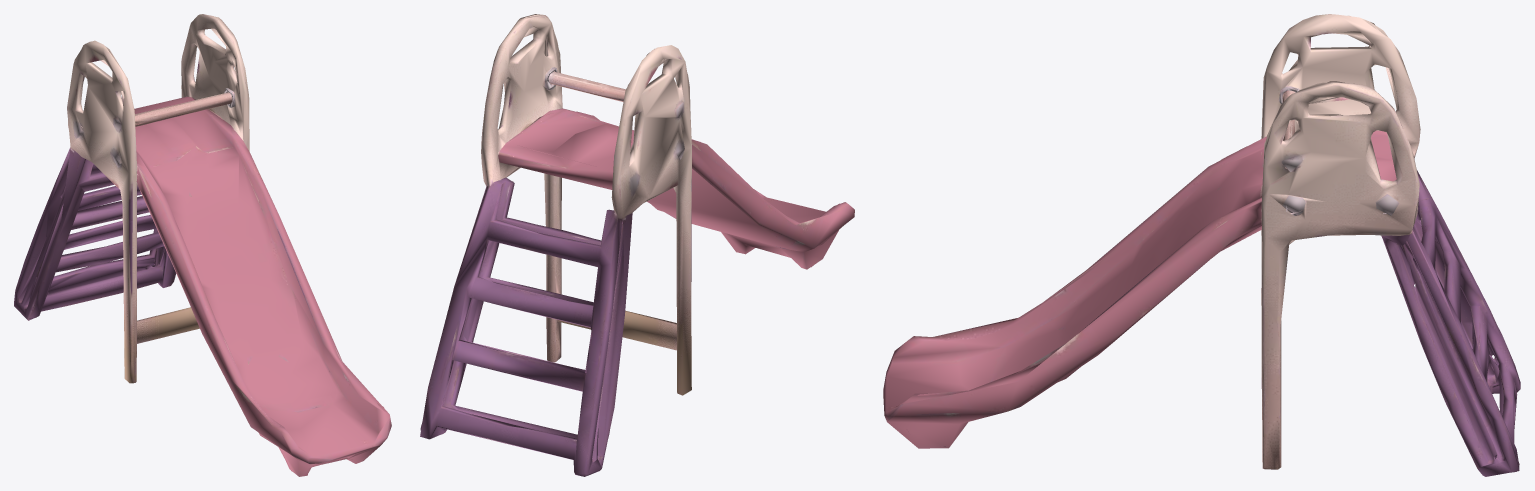
Rendered from pink-slide.glb.
3 views of the same model, side by side, from view 1: azimuth 30°, elevation 25°; view 2: azimuth 150°, elevation 25°; view 3: azimuth 270°, elevation 25° (orthographic). The views are drawn at different scales.
Visible parts, largest first — view 1: world; view 2: world; view 3: world.
Boxes of the visible parts, x1,y1,x2,y2 form: world: (14, 14, 391, 476); world: (420, 14, 854, 476); world: (883, 14, 1520, 476).
Size of the model in its own units: 0.3227 by 0.6705 by 1.
Materials: 1 (1 with a texture image).
